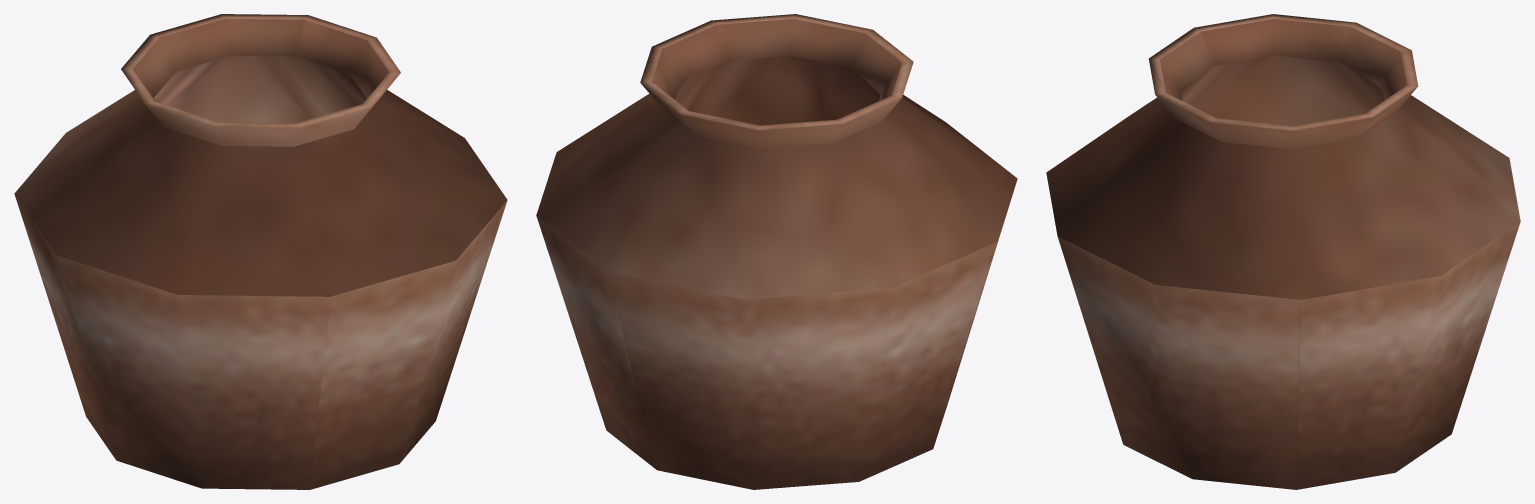
File: cer_2.dae
3 views of the same model, side by side, from view 1: azimuth 30°, elevation 25°; view 2: azimuth 150°, elevation 25°; view 3: azimuth 270°, elevation 25° (orthographic).
Visible parts, largest first — view 1: cer_2; view 2: cer_2; view 3: cer_2.
Boxes of the visible parts, x1,y1,x2,y2 form: cer_2: (14,14,507,489); cer_2: (536,14,1017,489); cer_2: (1046,14,1520,489).
Bounding box in the file's own units: 1.07 × 1.04 × 0.8359.
